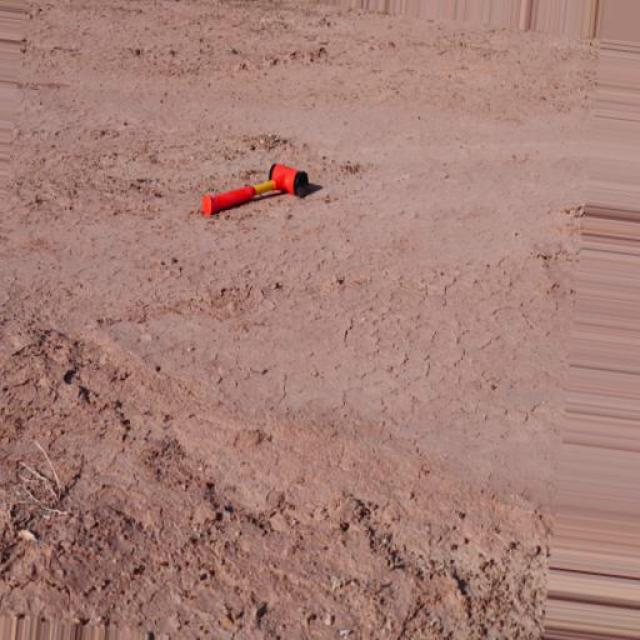mallet: (198, 162, 316, 216)
